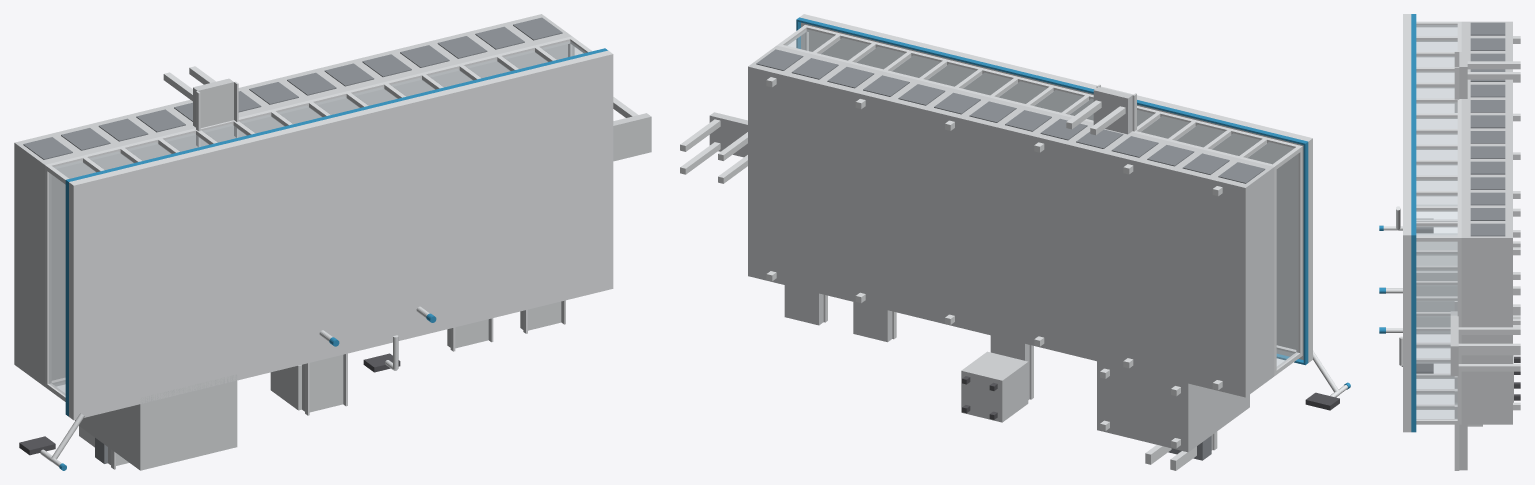
Rendered from xxx40_blockout (7).glb.
The picture shows the model from 3 angles, left to right: view 1: azimuth 30°, elevation 25°; view 2: azimuth 150°, elevation 25°; view 3: azimuth 270°, elevation 25°; orthographic projection. The views are drawn at different scales.
Parts seen in each view (by area): view 1: toiture_01, socle_01, groupe_alim_01, verre_29, traverse_03, bandeau_02, conv_lat_arriere_01, conv_lat_roulant_01, conv_sortie_01, traverse_05, bloc_roulant_01, bandeau_03 (+14 smaller); view 2: socle_01, toiture_01, groupe_alim_01, verre_29, bloc_roulant_01, traverse_04, bandeau_02, traverse_06, bandeau_03, conv_lat_flottant_02, conv_lat_flottant_01, traverse_03 (+3 smaller); view 3: socle_01, verre_30, verre_29, toiture_01, groupe_alim_01, bandeau_02, bandeau_04, traverse_03, traverse_07, conv_sortie_01, pied_conv_s_04, pied_conv_s_02 (+78 smaller).
Boxes of the visible parts, left/top/right/bottom form: toiture_01: left=69, top=50, right=613, bottom=420; socle_01: left=14, top=14, right=571, bottom=386; groupe_alim_01: left=75, top=374, right=237, bottom=470; verre_29: left=49, top=173, right=65, bottom=394; traverse_03: left=46, top=37, right=570, bottom=168; bandeau_02: left=65, top=48, right=607, bottom=183; conv_lat_arriere_01: left=193, top=78, right=233, bottom=143; conv_lat_roulant_01: left=302, top=355, right=343, bottom=412; conv_sortie_01: left=613, top=113, right=651, bottom=161; traverse_05: left=45, top=164, right=51, bottom=386; bloc_roulant_01: left=270, top=365, right=301, bottom=410; bandeau_03: left=65, top=179, right=68, bottom=414; socle_01: left=748, top=45, right=1274, bottom=397; toiture_01: left=799, top=14, right=1312, bottom=362; groupe_alim_01: left=1097, top=361, right=1249, bottom=452; verre_29: left=1277, top=154, right=1298, bottom=367; bloc_roulant_01: left=961, top=351, right=1028, bottom=422; traverse_04: left=804, top=25, right=1302, bottom=150; bandeau_02: left=796, top=17, right=1308, bottom=145; traverse_06: left=1296, top=149, right=1302, bottom=353; bandeau_03: left=1303, top=141, right=1308, bottom=363; conv_lat_flottant_02: left=784, top=285, right=823, bottom=325; conv_lat_flottant_01: left=853, top=302, right=892, bottom=342; traverse_03: left=778, top=44, right=1276, bottom=169; socle_01: left=1461, top=21, right=1512, bottom=424; verre_30: left=1416, top=242, right=1457, bottom=419; verre_29: left=1417, top=28, right=1456, bottom=204; toiture_01: left=1403, top=14, right=1411, bottom=432; groupe_alim_01: left=1416, top=233, right=1457, bottom=334; bandeau_02: left=1411, top=14, right=1416, bottom=236; bandeau_04: left=1411, top=234, right=1416, bottom=431; traverse_03: left=1457, top=22, right=1461, bottom=241; traverse_07: left=1457, top=237, right=1461, bottom=423; conv_sortie_01: left=1450, top=311, right=1458, bottom=375; pied_conv_s_04: left=1458, top=343, right=1520, bottom=351; pied_conv_s_02: left=1458, top=327, right=1520, bottom=334.
Size of the model in its own units: 10.6 by 5.6 by 2.4.
